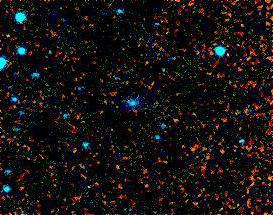star: (213, 41, 243, 71)
